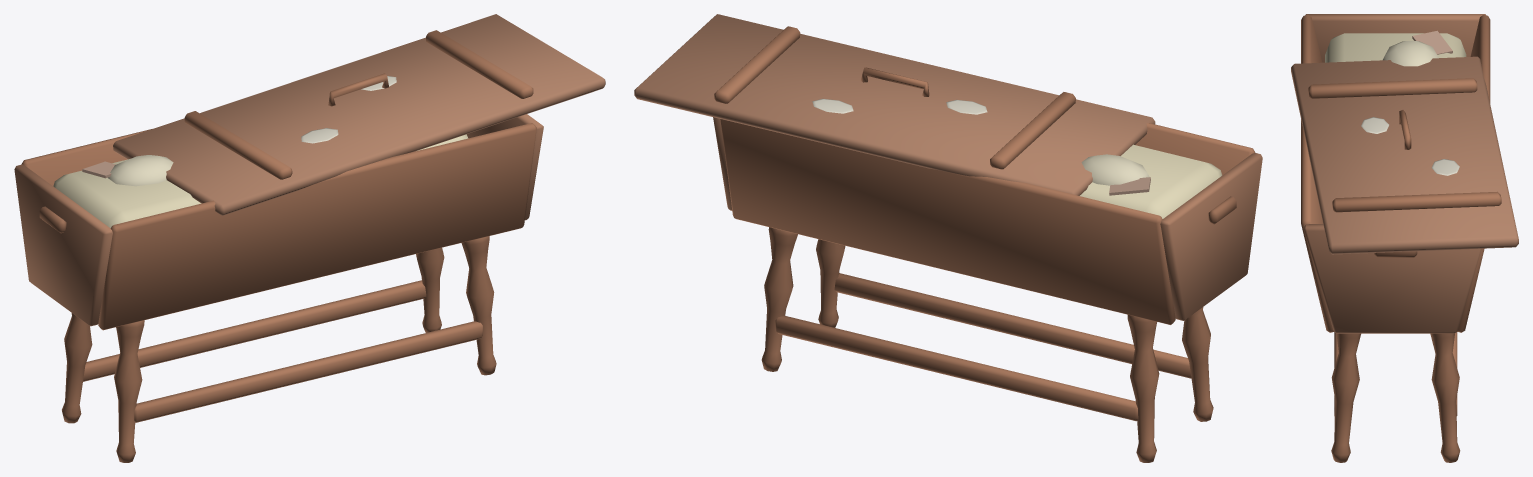
The model's file is dough_trough.glb.
3 views of the same model, side by side, from view 1: azimuth 30°, elevation 25°; view 2: azimuth 150°, elevation 25°; view 3: azimuth 270°, elevation 25° (orthographic). The views are drawn at different scales.
Visible parts, largest first — view 1: dough_trough; view 2: dough_trough; view 3: dough_trough.
Part boxes in pixels (left/top/right/bottom): dough_trough: left=14, top=14, right=605, bottom=462; dough_trough: left=634, top=14, right=1262, bottom=462; dough_trough: left=1291, top=14, right=1518, bottom=462.
Size of what is drawn, in the model's own units: 1.6 by 0.85 by 0.6.
